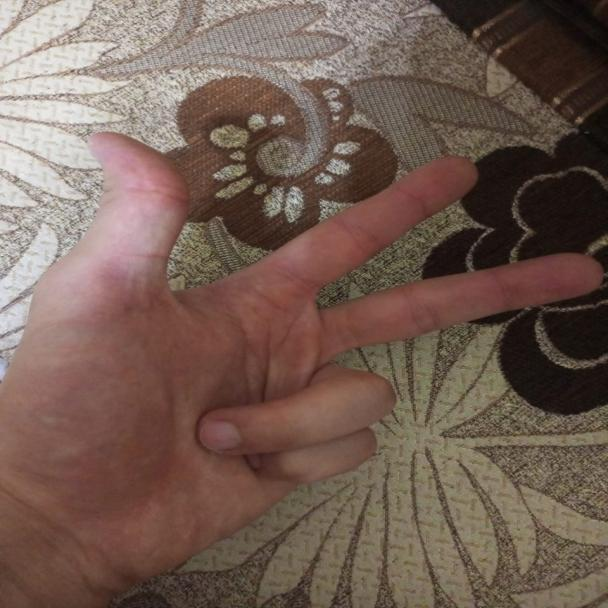five: (43, 102, 601, 492)
